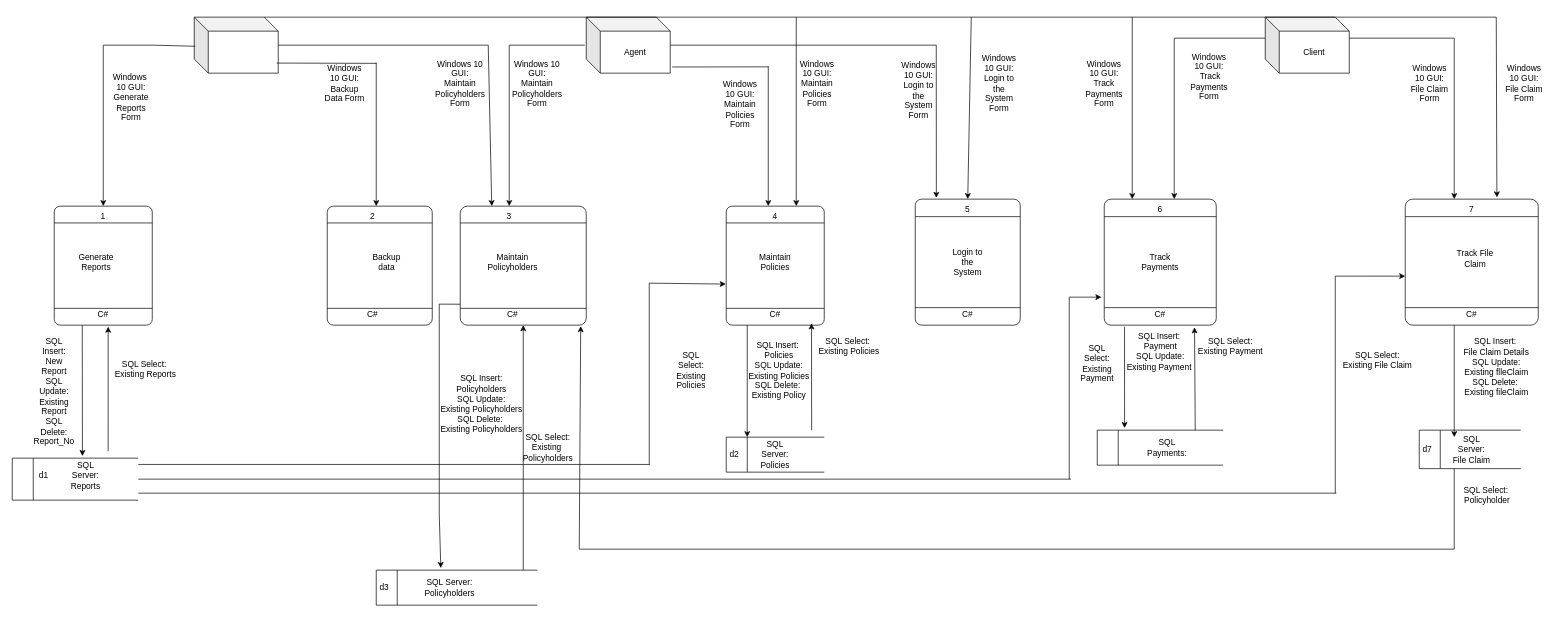
Some shapes in this 1558 by 617 pixel diagram are drawn without their labels. The box of each missing label's shape, as (x1, y1, x2, y2) in pixels:
Admin: (194, 16, 278, 73)
d6: (1097, 429, 1223, 465)
